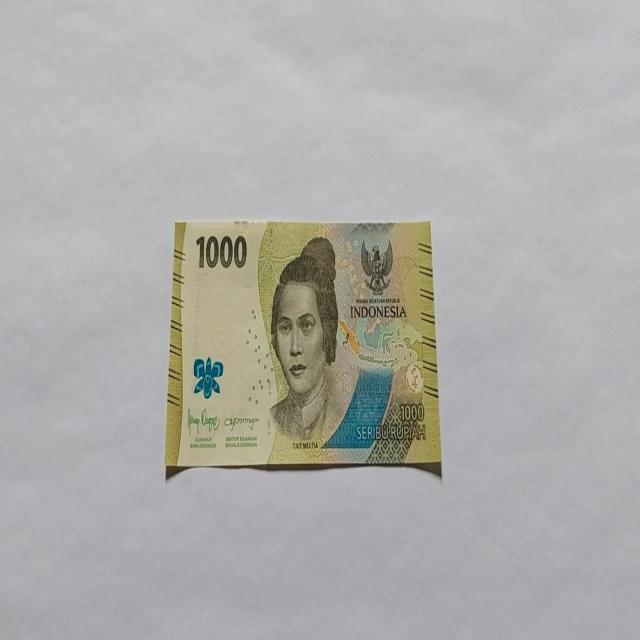seribu rupiah kertas: (164, 218, 441, 476)
